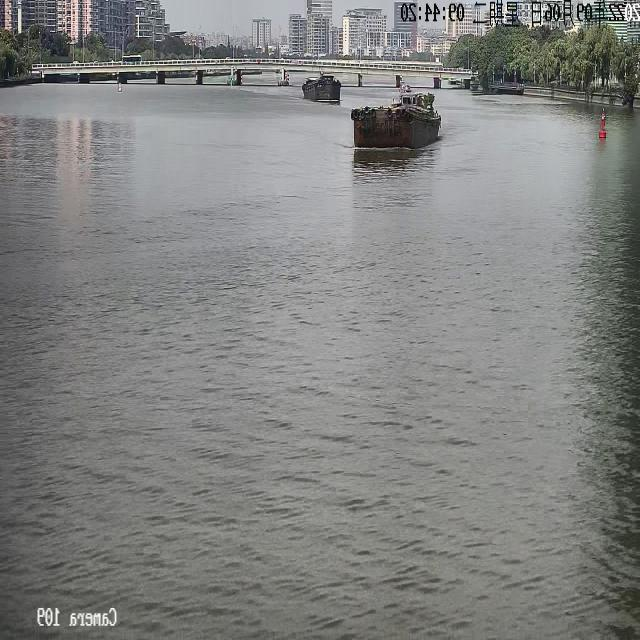ship: (351, 90, 441, 147), (302, 74, 342, 100), (398, 80, 412, 92)
